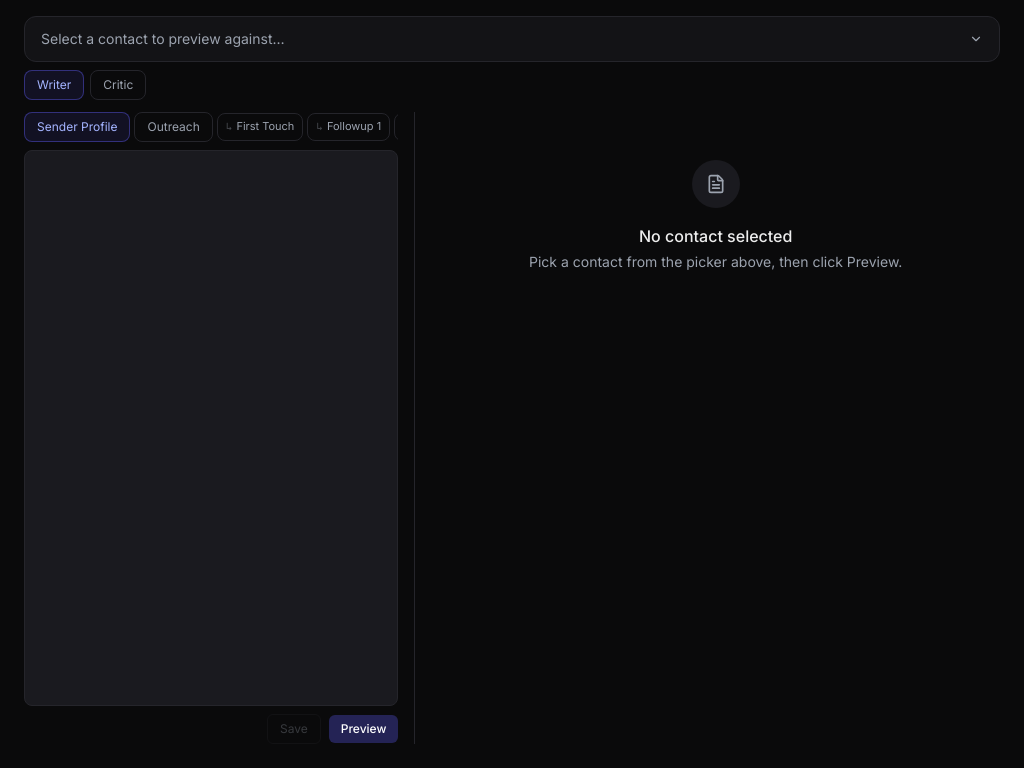
Test case: LabRoot › switches to critic mode when Critic button is clicked
Click the button with test id "mode-critic".
click(118, 85)  # box [90, 70, 146, 100]
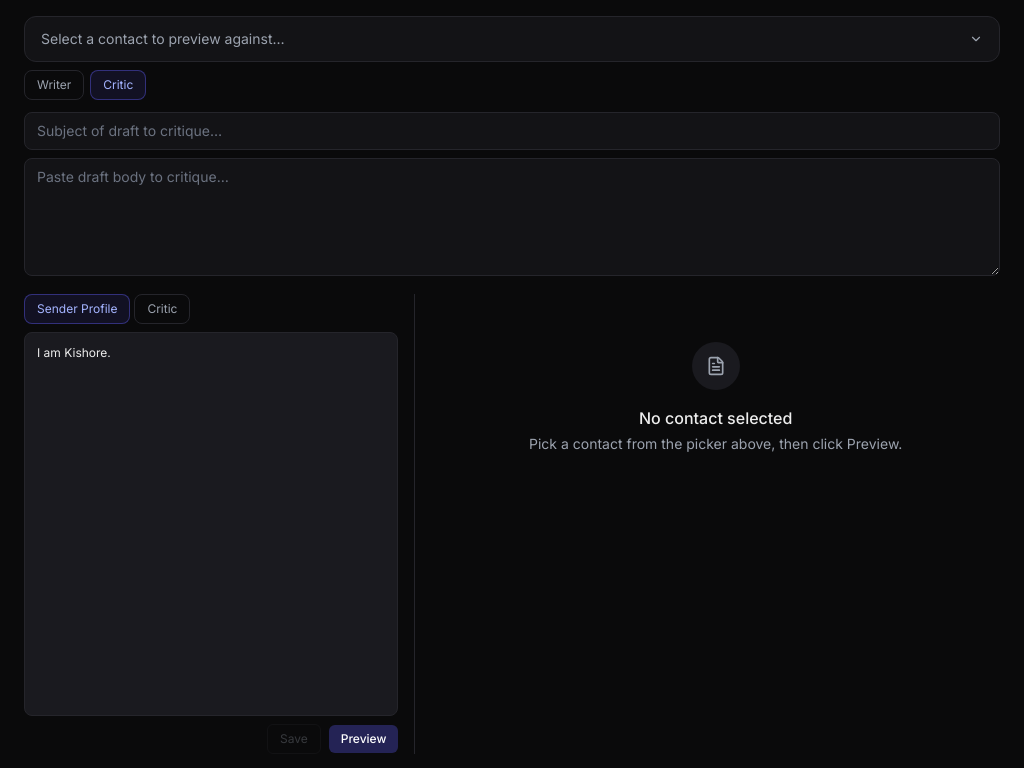
Now the field with placeholder "Subject of draft to critique…" is shown, box [24, 112, 1000, 150]
